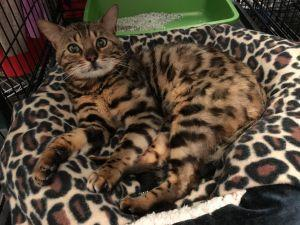bengal: (35, 1, 126, 81)
